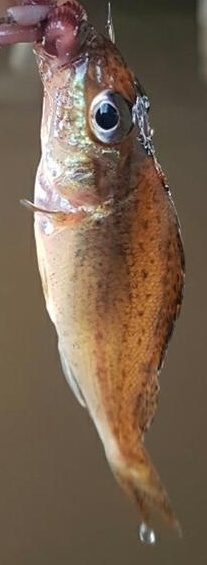Gymnocephalus cernuus: (20, 20, 187, 545)
